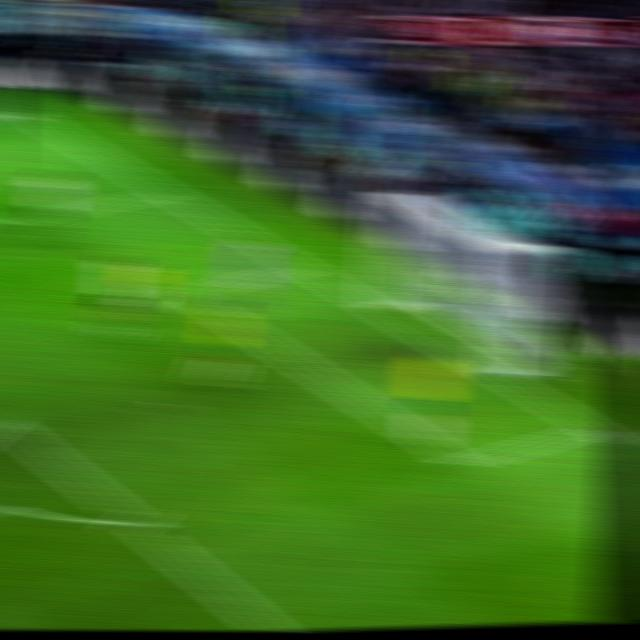bigarea_top_outter: (147, 181, 188, 203)
bottom_arc_area_intersection: (110, 502, 159, 539)
corner: (0, 100, 45, 121)
smallarea_bottom_inner: (439, 442, 486, 483)
smallarea_bottom_outter: (571, 408, 620, 445)
smallarea_top_inner: (166, 276, 211, 308)
smallarea_top_outter: (282, 253, 323, 280)
